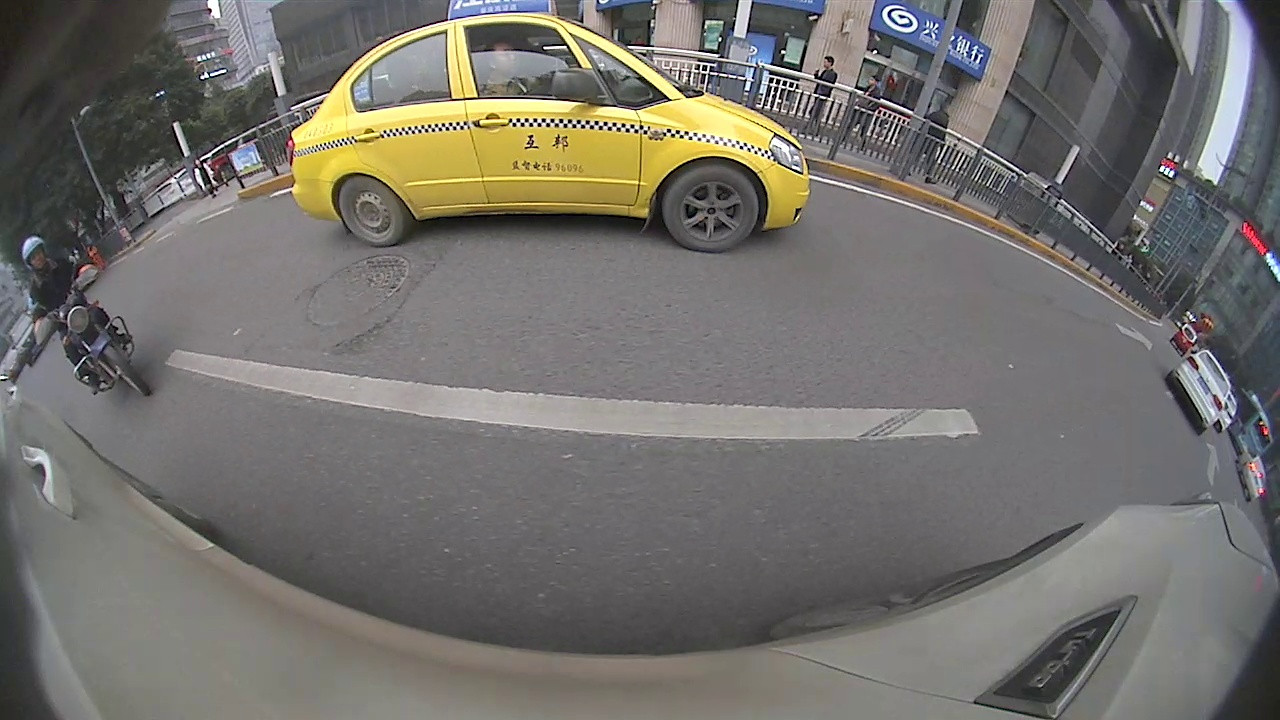car: (283, 2, 812, 253), (1164, 347, 1233, 435)
front: (662, 166, 761, 254), (93, 342, 151, 399)
rear: (337, 178, 406, 248)
rider: (19, 234, 155, 400)
